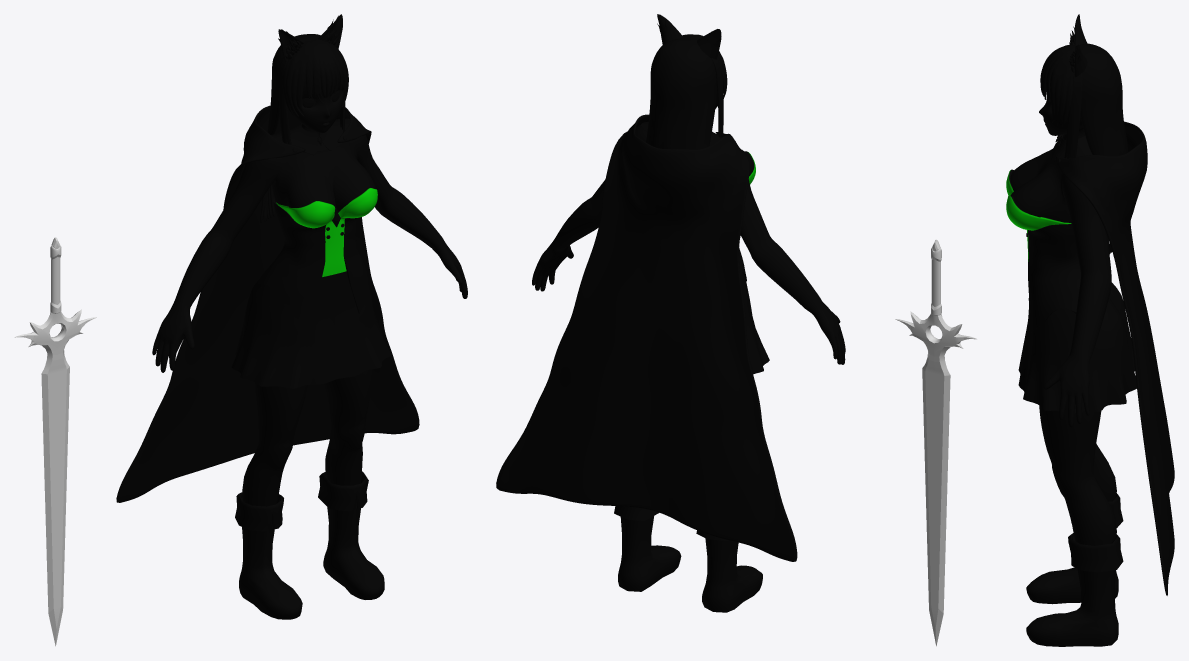
The picture shows the model from 3 angles, left to right: view 1: azimuth 30°, elevation 25°; view 2: azimuth 150°, elevation 25°; view 3: azimuth 270°, elevation 25°; orthographic projection. The views are drawn at different scales.
Visible parts, largest first — view 1: polySurface44, sword; view 2: polySurface44, sword; view 3: polySurface44.
Boxes of the visible parts, x1,y1,x2,y2 form: polySurface44: (116,14,467,619); sword: (14,237,96,646); polySurface44: (496,14,845,612); sword: (895,239,976,646); polySurface44: (1006,14,1174,646).
Size of the model in its own units: 126 by 153 by 39.82.
